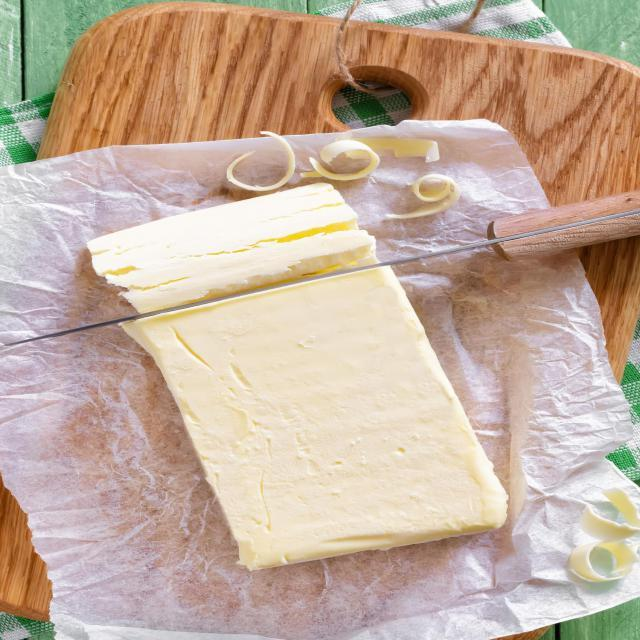Butter: (112, 262, 510, 571), (86, 182, 374, 314)
